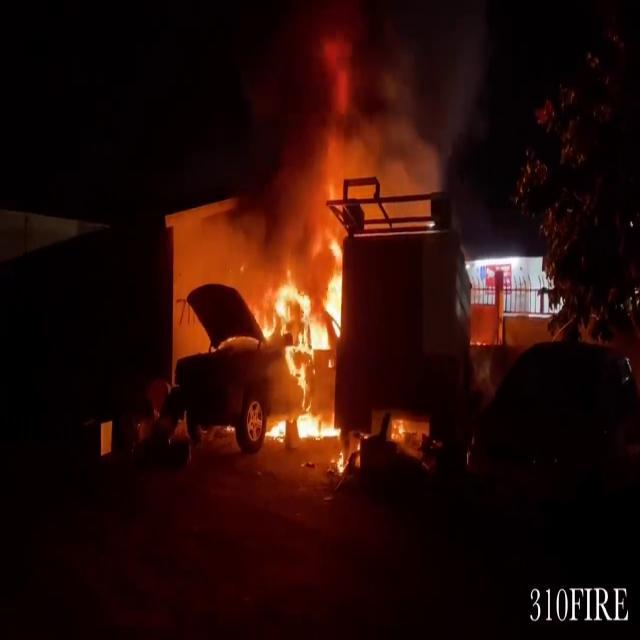Fire: (260, 228, 352, 446)
Smoke: (245, 2, 489, 218)
